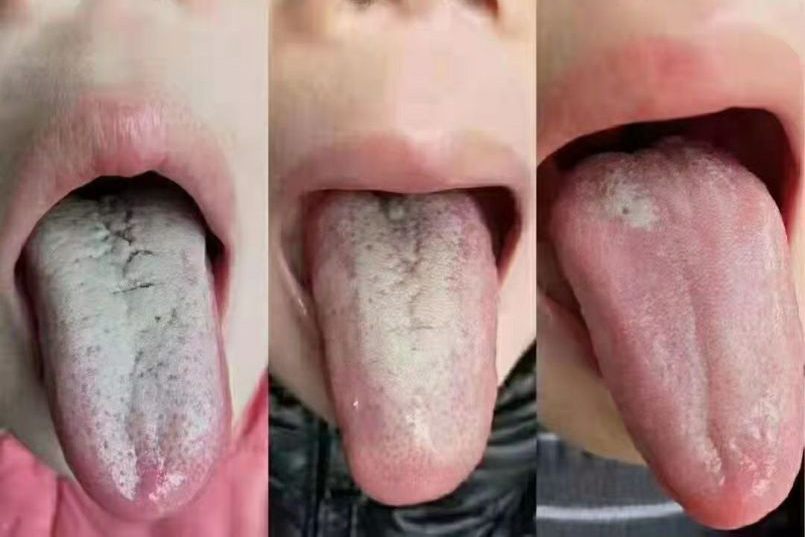baitaishe: (27, 198, 233, 522), (304, 191, 497, 505)
hongdianshe: (92, 380, 201, 467)
jiankangshe: (550, 141, 805, 531)
liewenshe: (83, 206, 157, 298)
